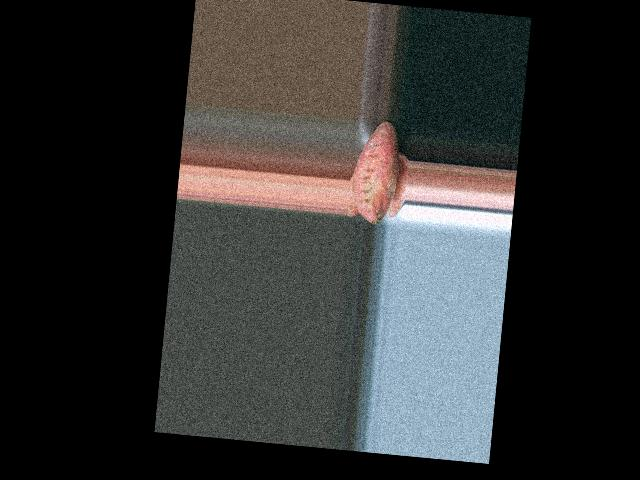sweet_potato: (352, 120, 398, 225)
